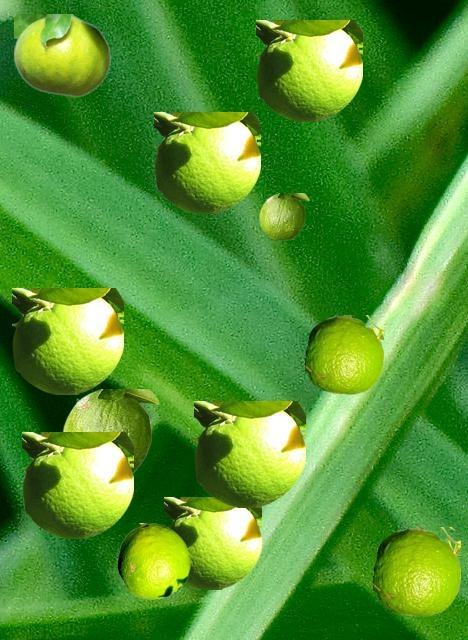dalandan: (194, 401, 304, 506), (22, 432, 132, 537), (12, 288, 122, 393), (154, 112, 259, 212), (256, 20, 361, 120), (164, 497, 260, 588), (62, 389, 158, 474), (14, 14, 110, 96), (373, 527, 459, 615), (305, 315, 382, 393), (117, 523, 189, 598), (259, 193, 308, 239)
